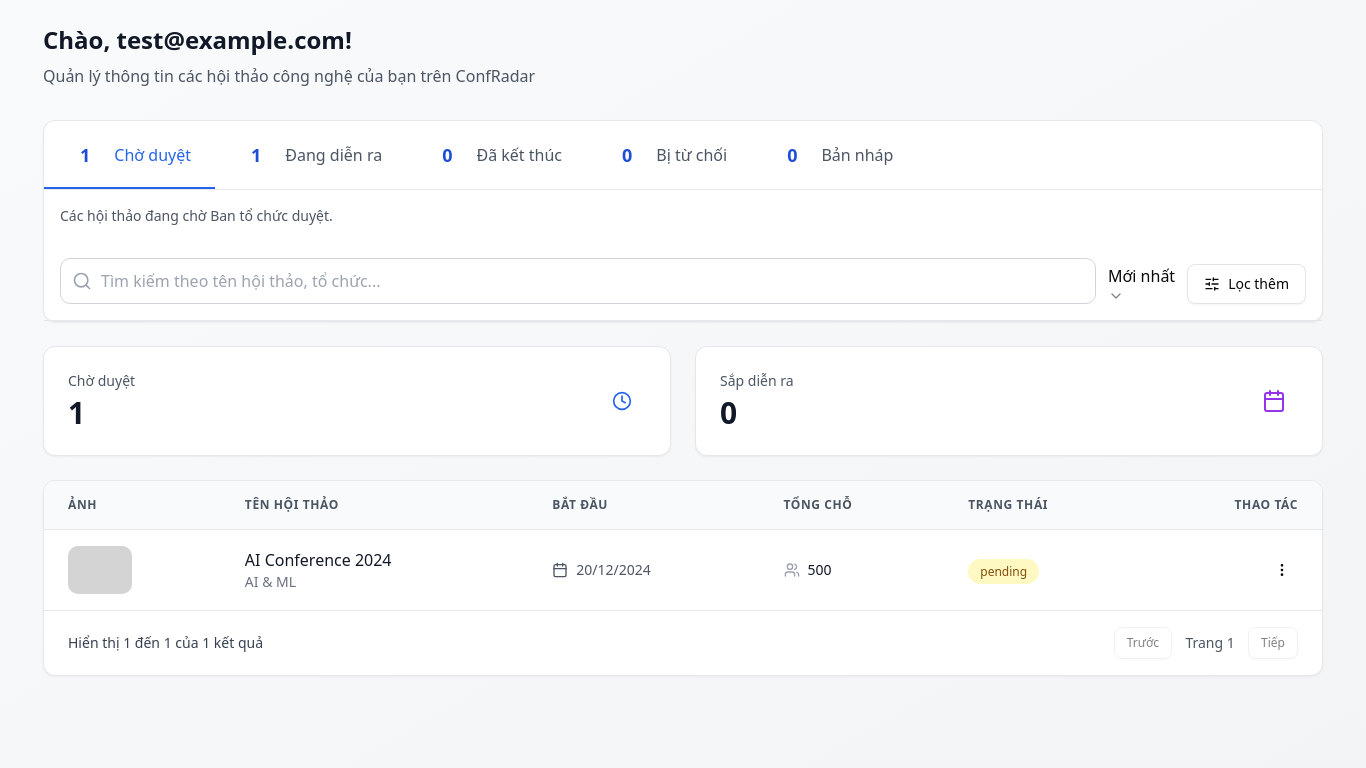
Test case: ConferenceManagementTabs Component › changes active tab when tab button is clicked
Click the text "Đang diễn ra" at (334, 155), box [285, 143, 382, 167]
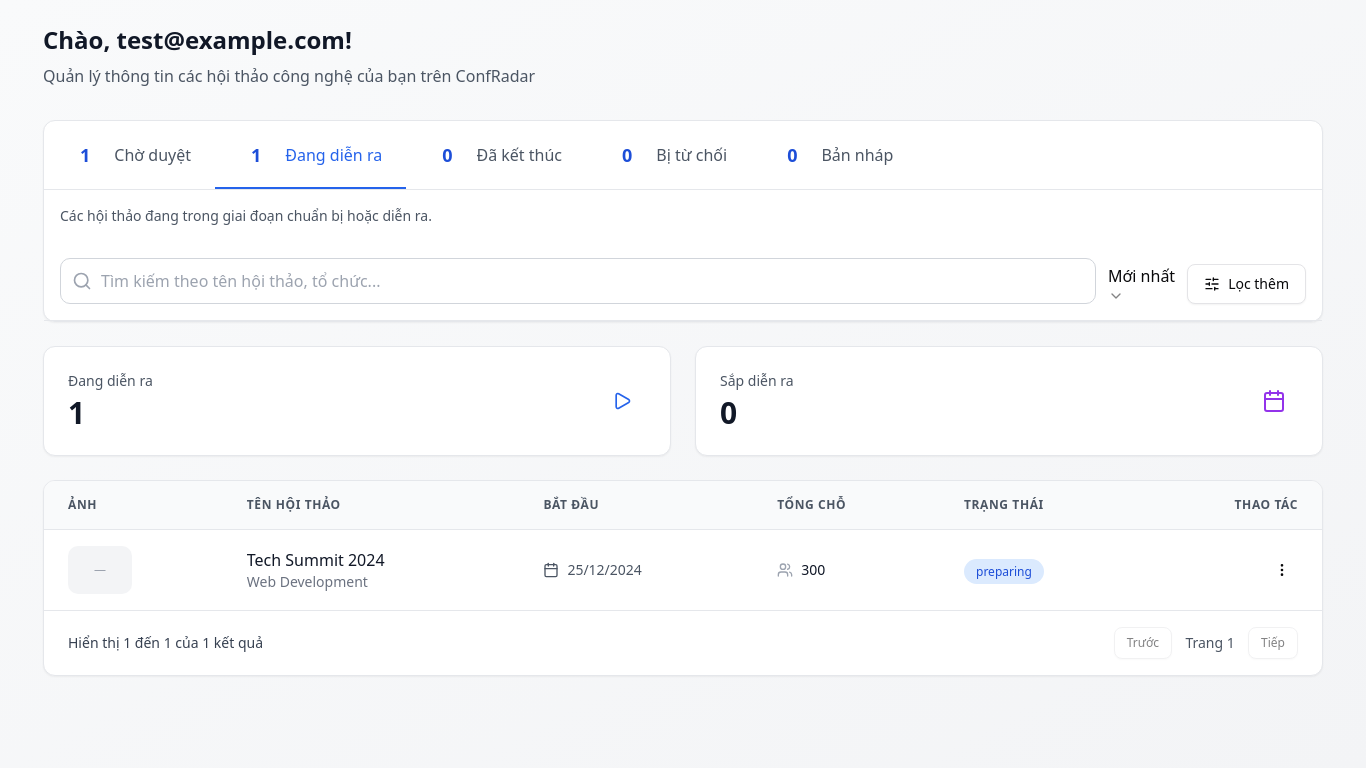
Expected: the text "Các hội thảo đang trong giai đoạn chuẩn bị hoặc diễn ra." is shown, [60, 206, 432, 225]
